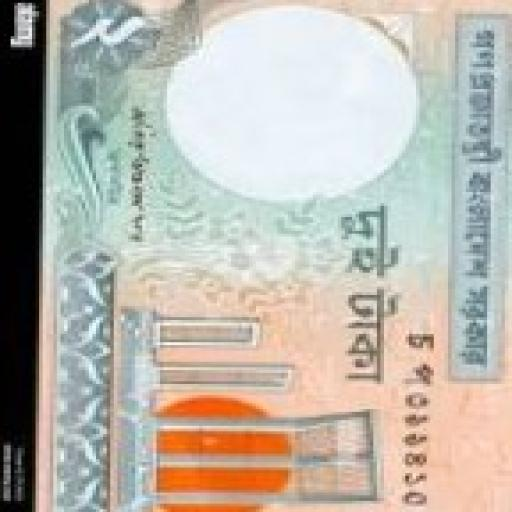2taka: (36, 0, 508, 509)
